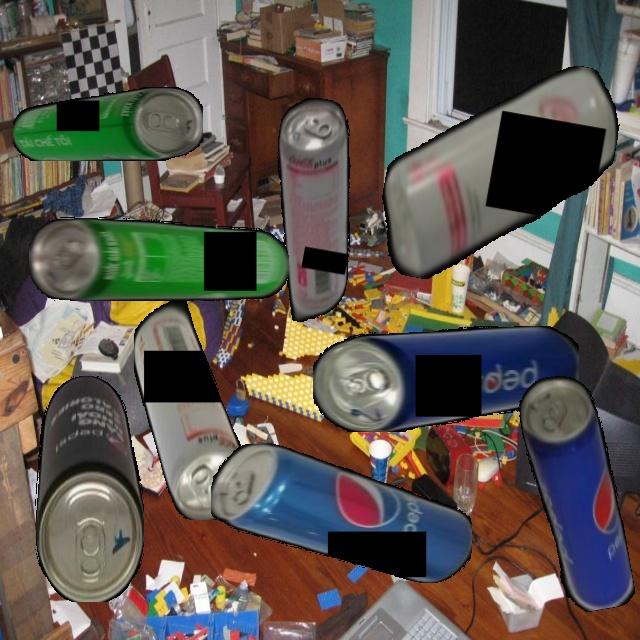debris: (370, 37, 628, 307), (210, 444, 472, 583), (247, 92, 377, 328), (514, 369, 637, 617), (313, 325, 579, 432), (133, 293, 246, 520), (34, 375, 144, 602), (29, 216, 289, 301), (12, 87, 203, 161)
